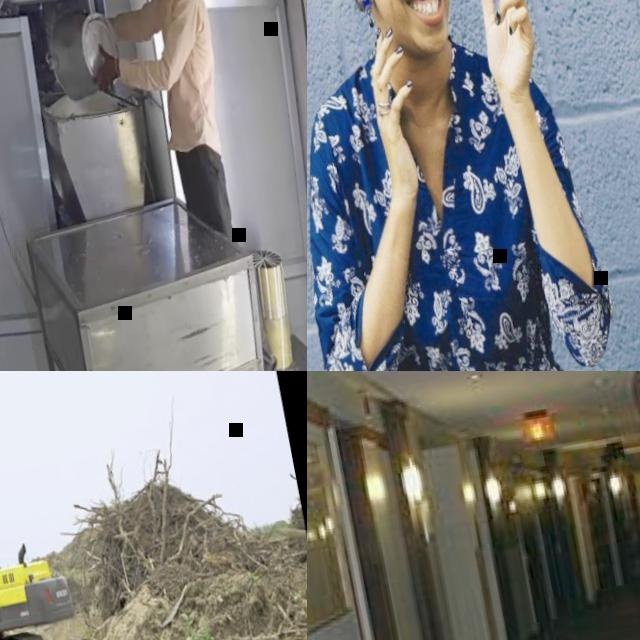NO-Mask: (379, 0, 463, 62)
NO-Safety Vest: (329, 31, 581, 371), (137, 0, 233, 158)
Person: (307, 0, 632, 371), (58, 0, 300, 371)
machinery: (0, 377, 85, 640)
